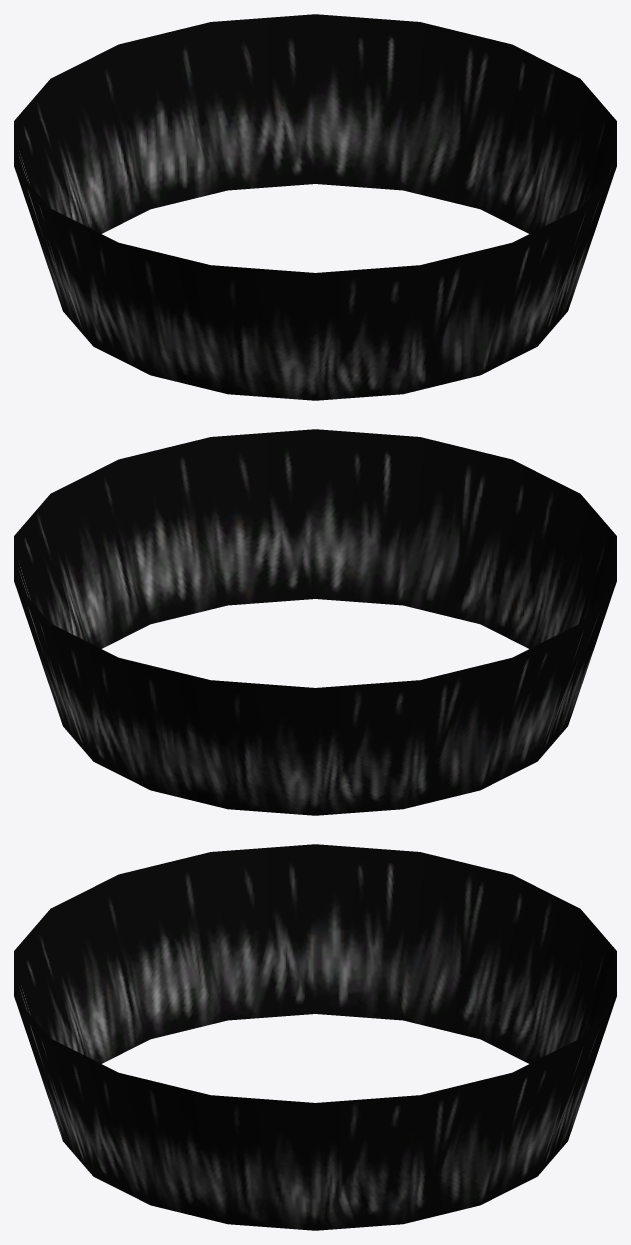
The model's file is Jump.FBX.
3 renders of one model, top to bottom at view 1: azimuth 30°, elevation 25°; view 2: azimuth 150°, elevation 25°; view 3: azimuth 270°, elevation 25°, orthographic.
Parts seen in each view (by area): view 1: Jump; view 2: Jump; view 3: Jump.
Boxes of the visible parts, x1,y1,x2,y2 form: Jump: (14,14,616,400); Jump: (14,429,616,815); Jump: (14,844,616,1230).
Bounding box in the file's own units: 222 × 59.39 × 218.
Materials: 1 (1 with a texture image).
